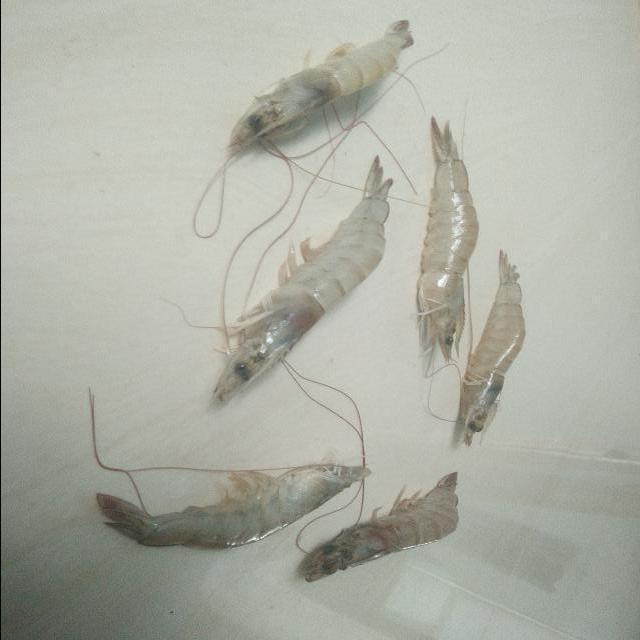shrimp: (215, 159, 392, 401), (229, 19, 413, 148), (95, 466, 370, 550), (304, 474, 458, 583), (418, 117, 479, 361), (462, 251, 526, 446)
